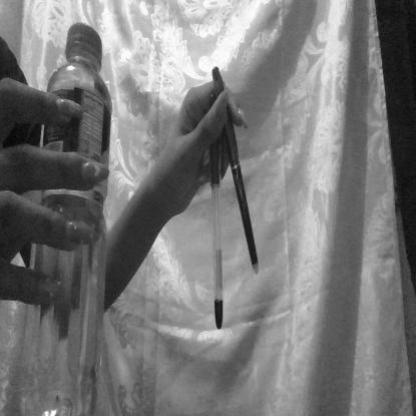Plastic Bottle: (14, 2, 126, 416)
